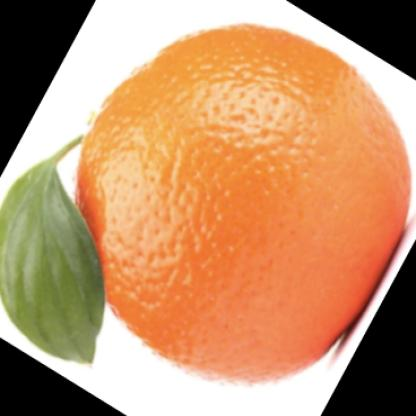fresh: (73, 24, 407, 365)
